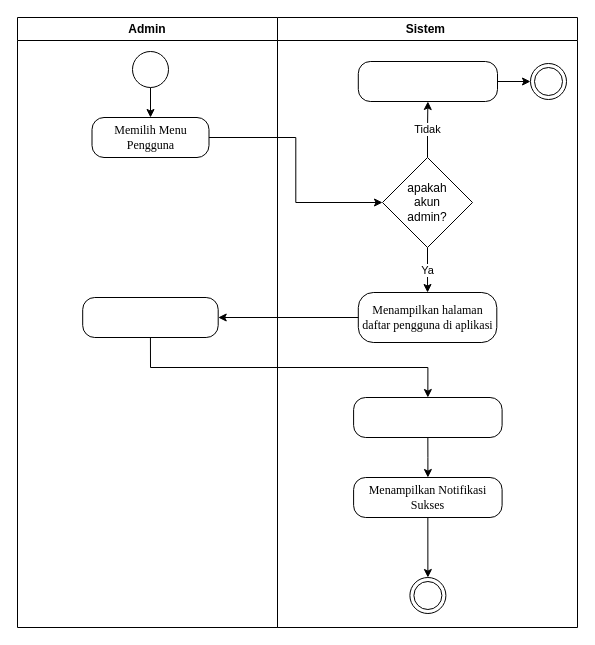
This 595x645 diagram has some shape labels left out. The centre of each missing label's shape, as x and y in pixels:
Memilih akun pengguna yang akan di nonaktifkan: pixel 150 317
Menampilkan Halaman "403 - Forbidden": pixel 427 81
Menonaktifkan Akun Pengguna yang dipilih: pixel 427 417
